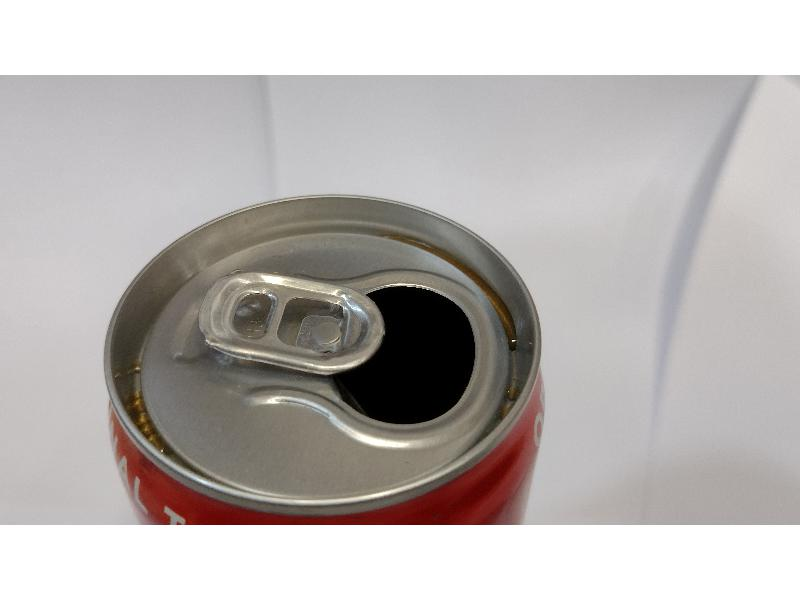can: (100, 190, 553, 522)
